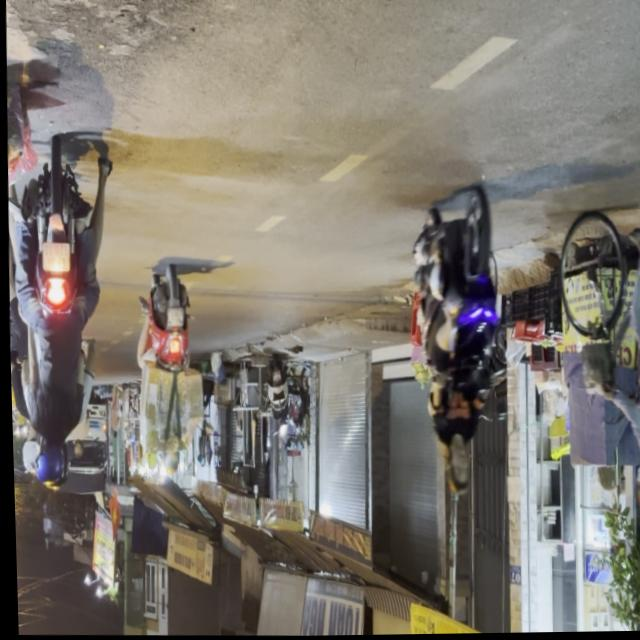helmet: (34, 438, 66, 489), (18, 427, 40, 476), (159, 442, 179, 477)
licenseplate: (3, 142, 118, 497), (399, 185, 509, 502), (129, 265, 198, 483)
motorcyclist: (442, 445, 471, 498)
nohelmet: (42, 245, 69, 274), (165, 309, 182, 329)
